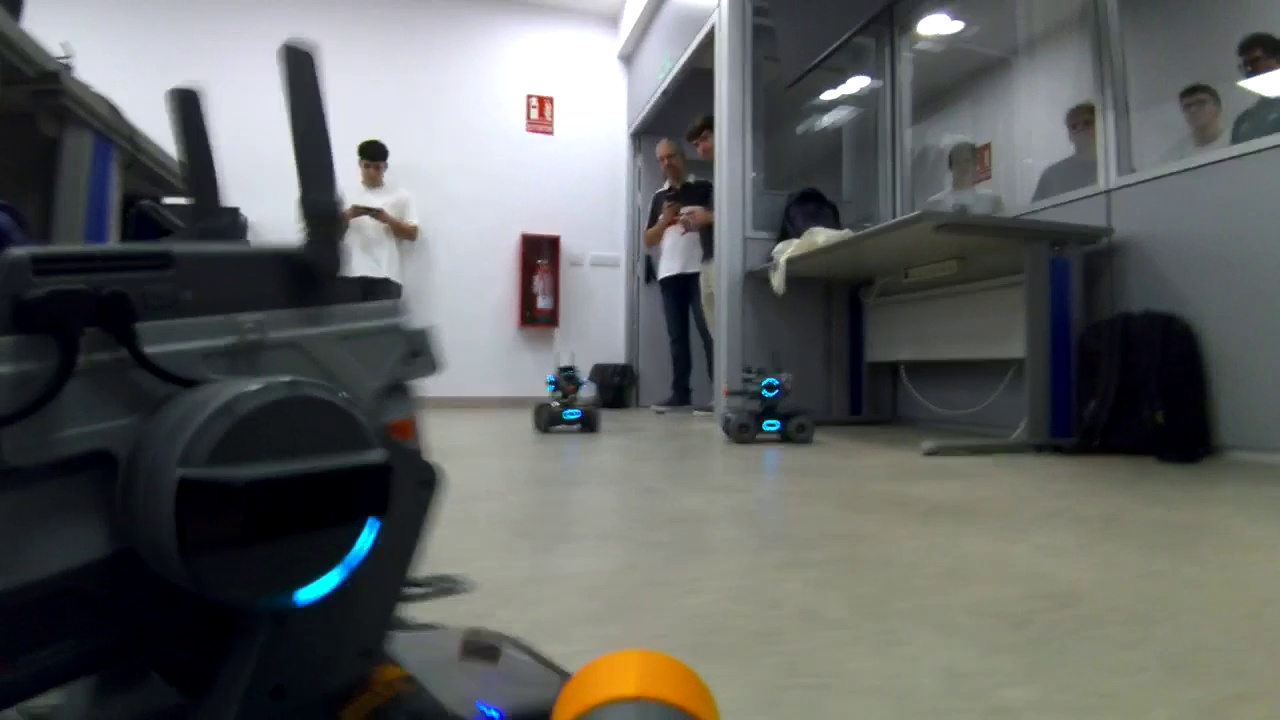robot: (716, 357, 825, 453), (529, 353, 605, 433)
